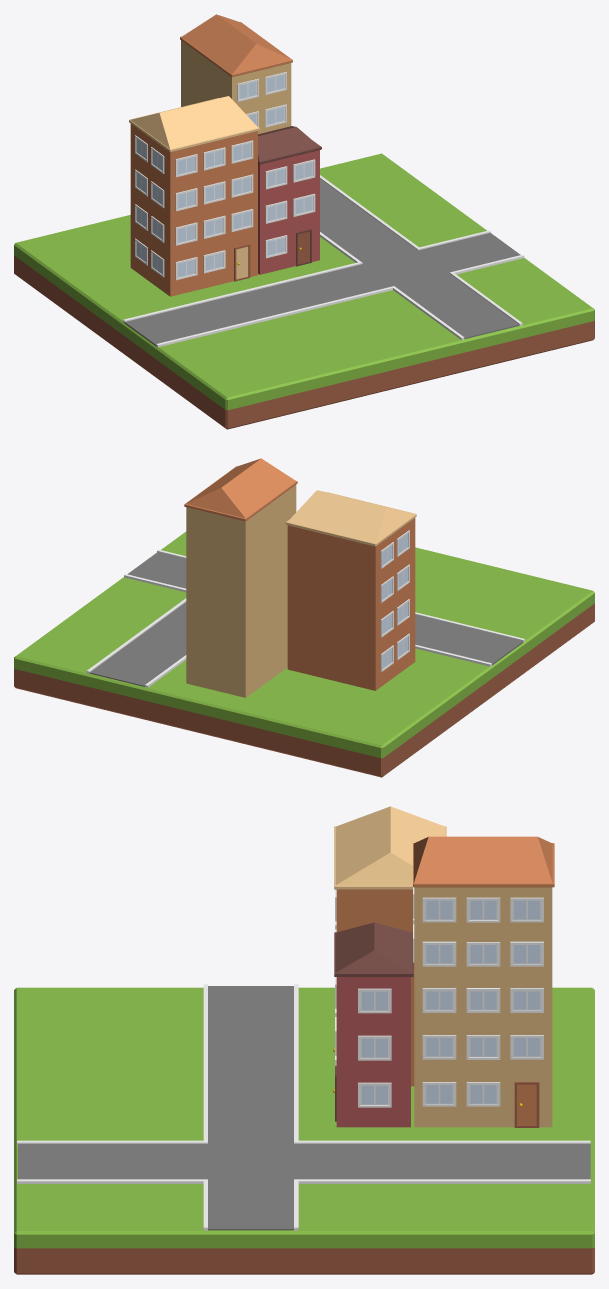
File: ground3.glb
The picture shows the model from 3 angles, top to bottom: view 1: azimuth 30°, elevation 25°; view 2: azimuth 150°, elevation 25°; view 3: azimuth 270°, elevation 25°; orthographic projection. The views are drawn at different scales.
Parts seen in each view (by area): view 1: Cube, Haus, Straße; view 2: Cube, Haus, Straße; view 3: Cube, Haus, Straße.
Part boxes in pixels (x1=…): Cube: x1=14, y1=153, x2=594, y2=429; Haus: x1=129, y1=14, x2=321, y2=296; Straße: x1=123, y1=175, x2=524, y2=347; Cube: x1=14, y1=531, x2=594, y2=777; Haus: x1=184, y1=458, x2=416, y2=697; Straße: x1=86, y1=549, x2=524, y2=687; Cube: x1=14, y1=987, x2=594, y2=1274; Haus: x1=333, y1=806, x2=554, y2=1127; Straße: x1=17, y1=984, x2=590, y2=1230.
Size of the model in its own units: 2 by 1.2 by 2.
